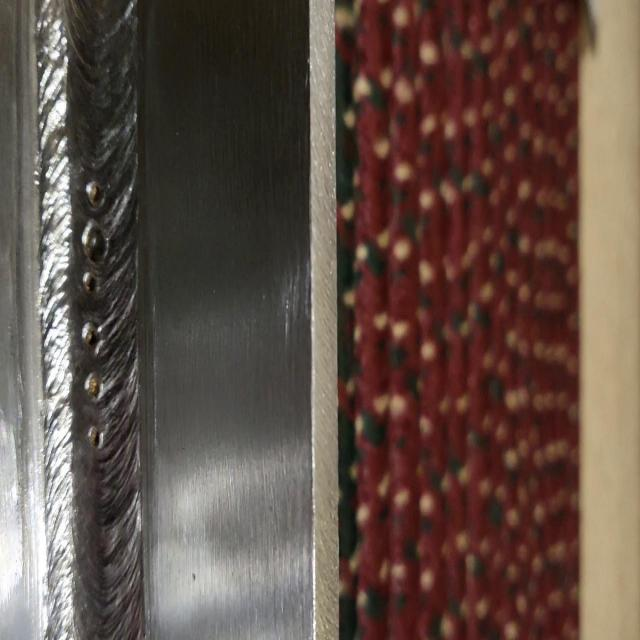Welding Line: (49, 2, 142, 640)
Workpiece: (1, 4, 337, 640)
porosity: (81, 175, 111, 448)
